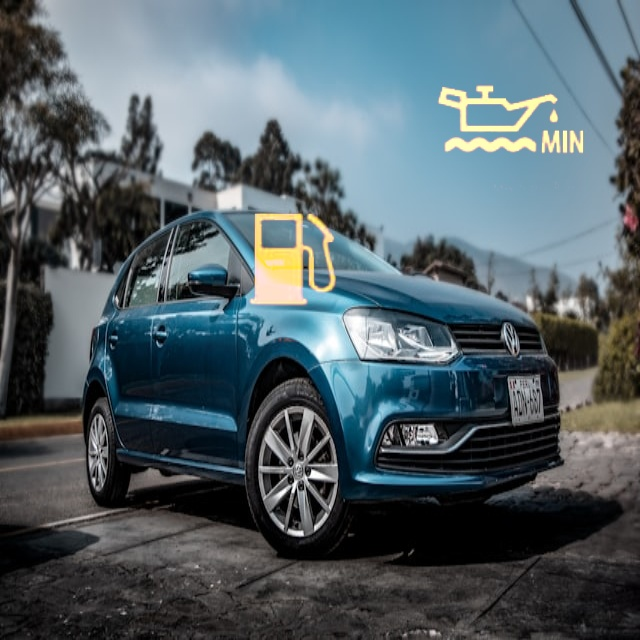symbol: (202, 170, 383, 351), (429, 40, 590, 201)
